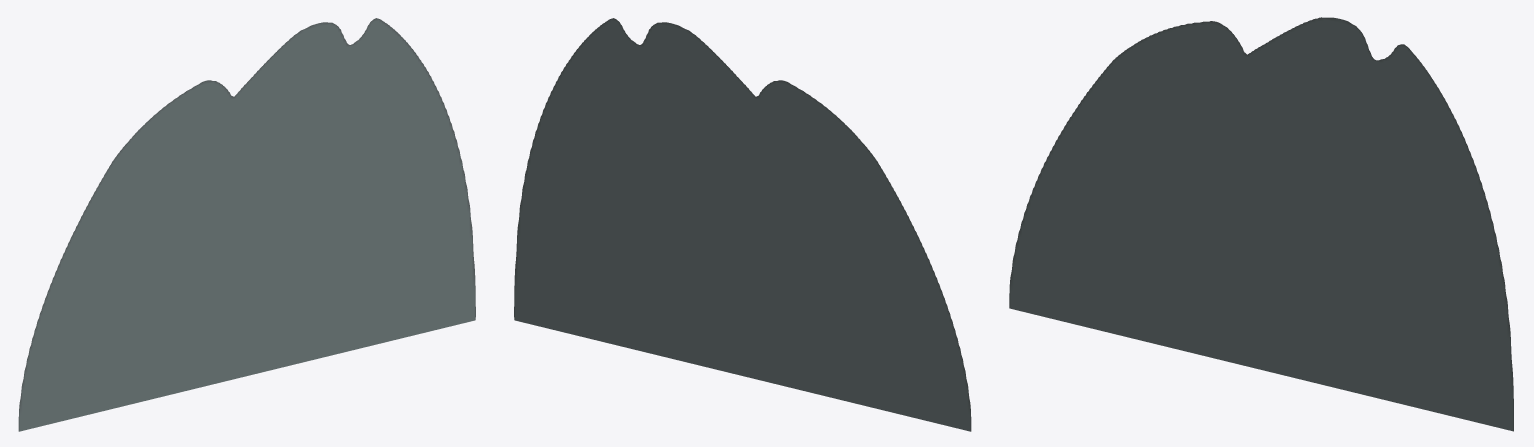
File: outside_model_04_mountain004.FBX
3 views of the same model, side by side, from view 1: azimuth 30°, elevation 25°; view 2: azimuth 150°, elevation 25°; view 3: azimuth 330°, elevation 25° (orthographic). The views are drawn at different scales.
Parts seen in each view (by area): view 1: outside_model_04_mountain004; view 2: outside_model_04_mountain004; view 3: outside_model_04_mountain004.
Part boxes in pixels (x1,y1,x2,y2): outside_model_04_mountain004: [18, 18, 475, 431]; outside_model_04_mountain004: [514, 18, 971, 431]; outside_model_04_mountain004: [1009, 17, 1513, 431].
Bounding box in the file's own units: 4.69 × 3.24 × 8.67e-07.
